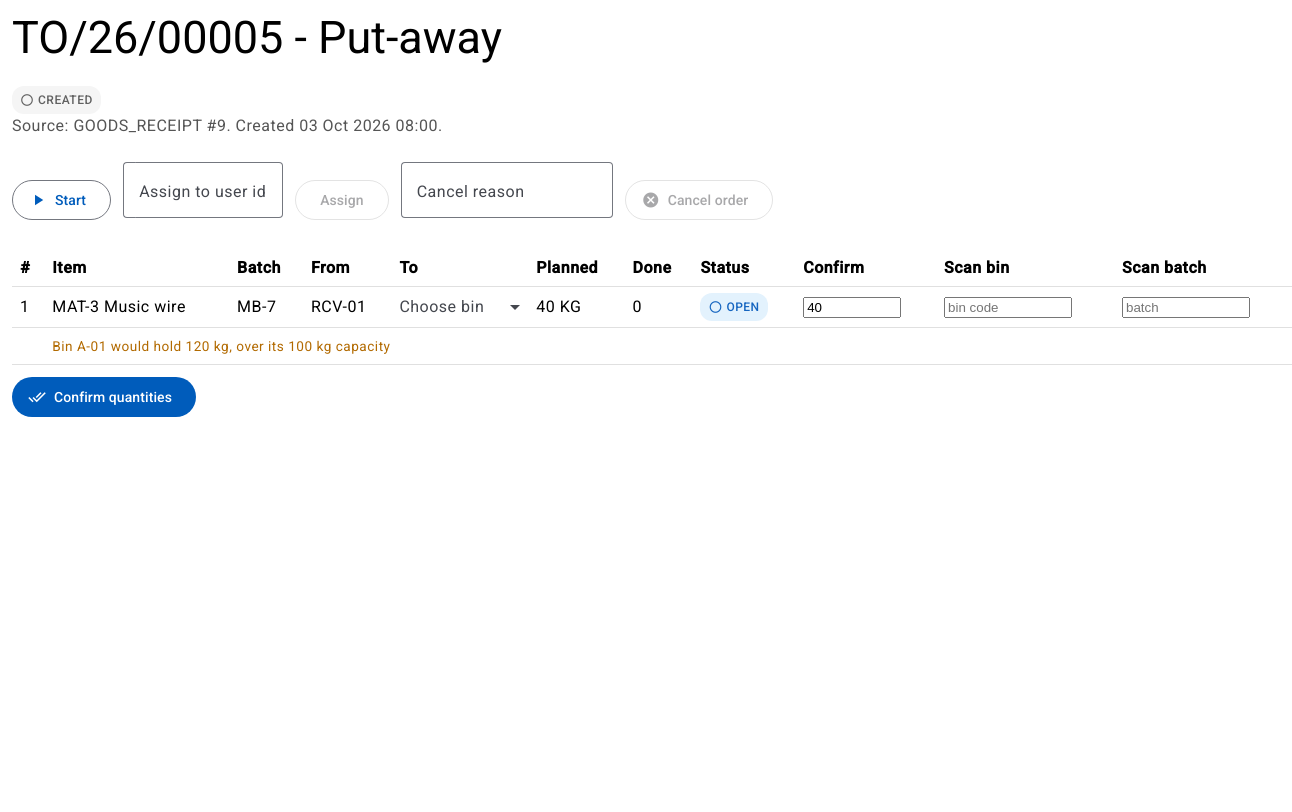
Test: WmsTaskDetailComponent › confirms the remaining quantity with the scanned codes
Type " A-01 " into the field with test id "scan-bin" at (1008, 308), box [944, 298, 1072, 318]
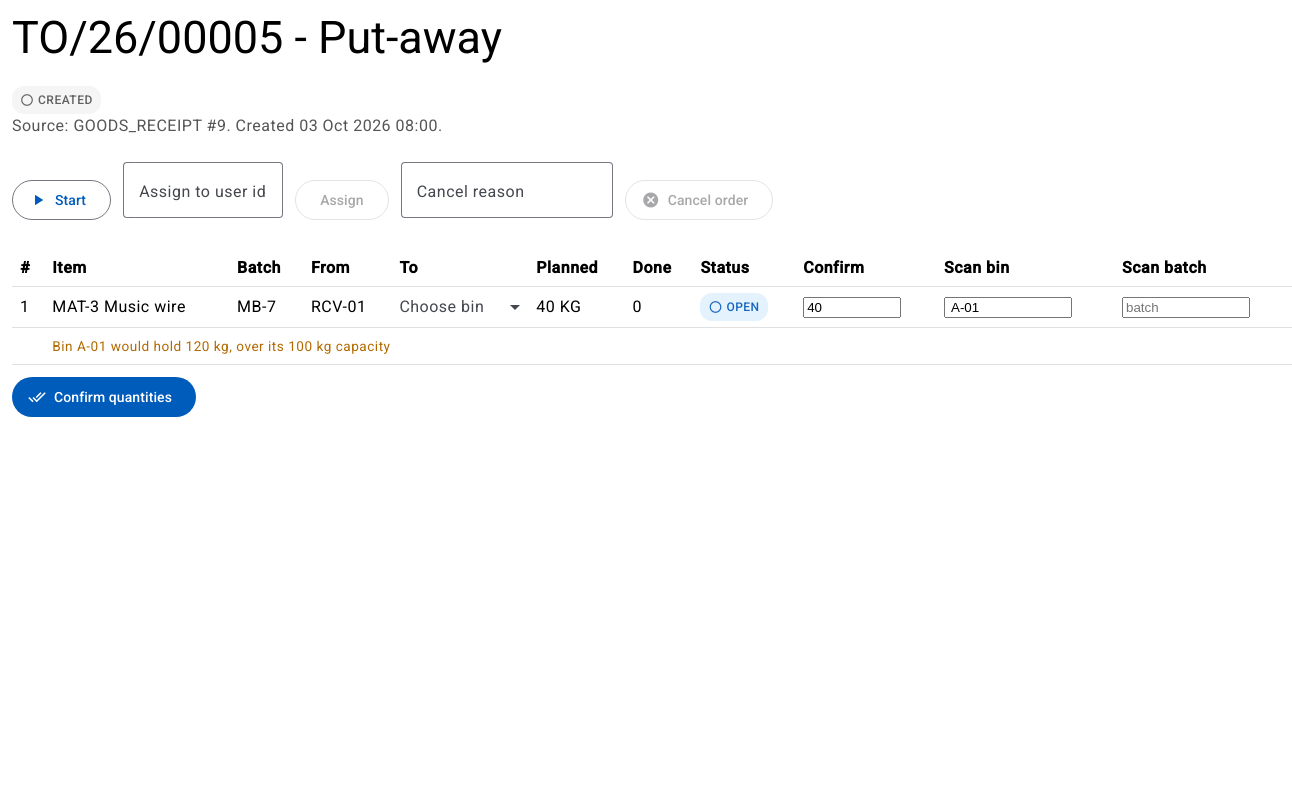
Type "MB-7" into the field with test id "scan-batch" at (1186, 308), box [1122, 298, 1250, 318]
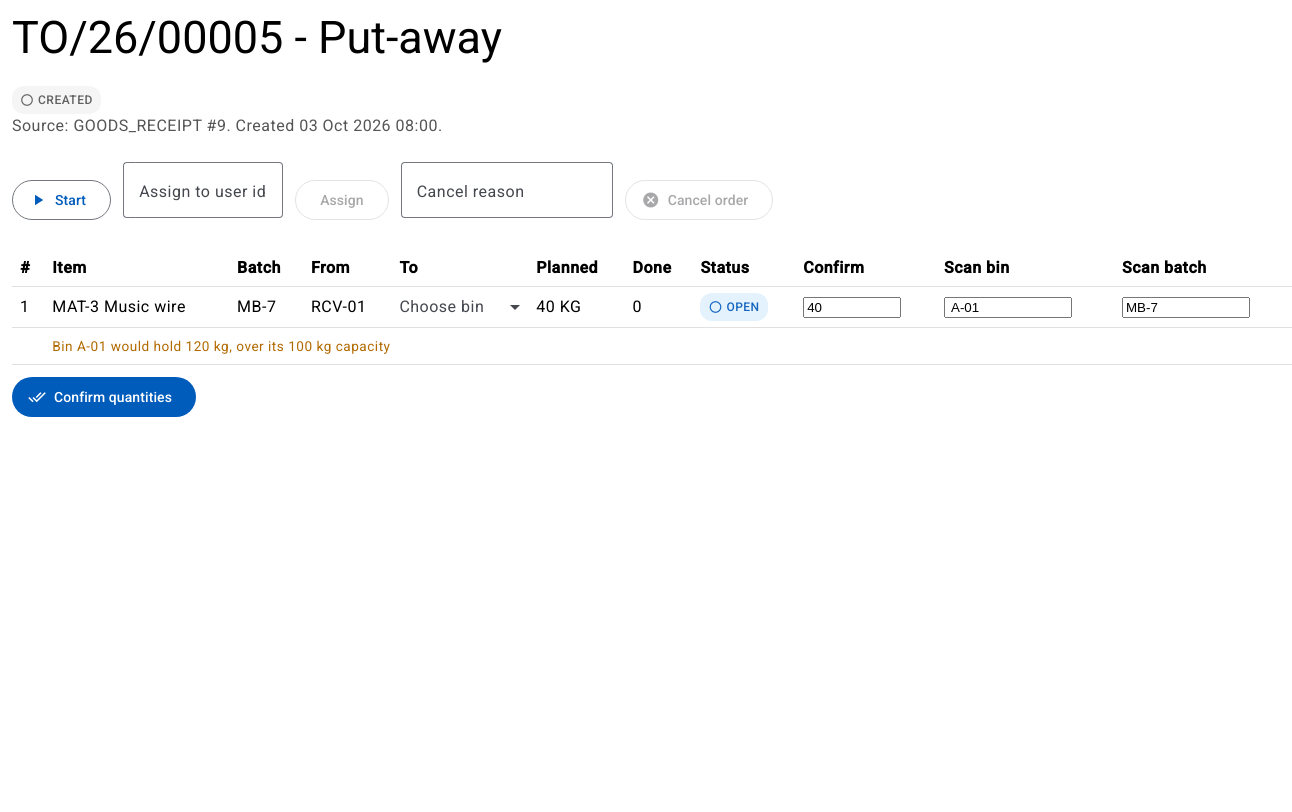
Click the button with test id "confirm" at (104, 398), box [12, 378, 196, 418]
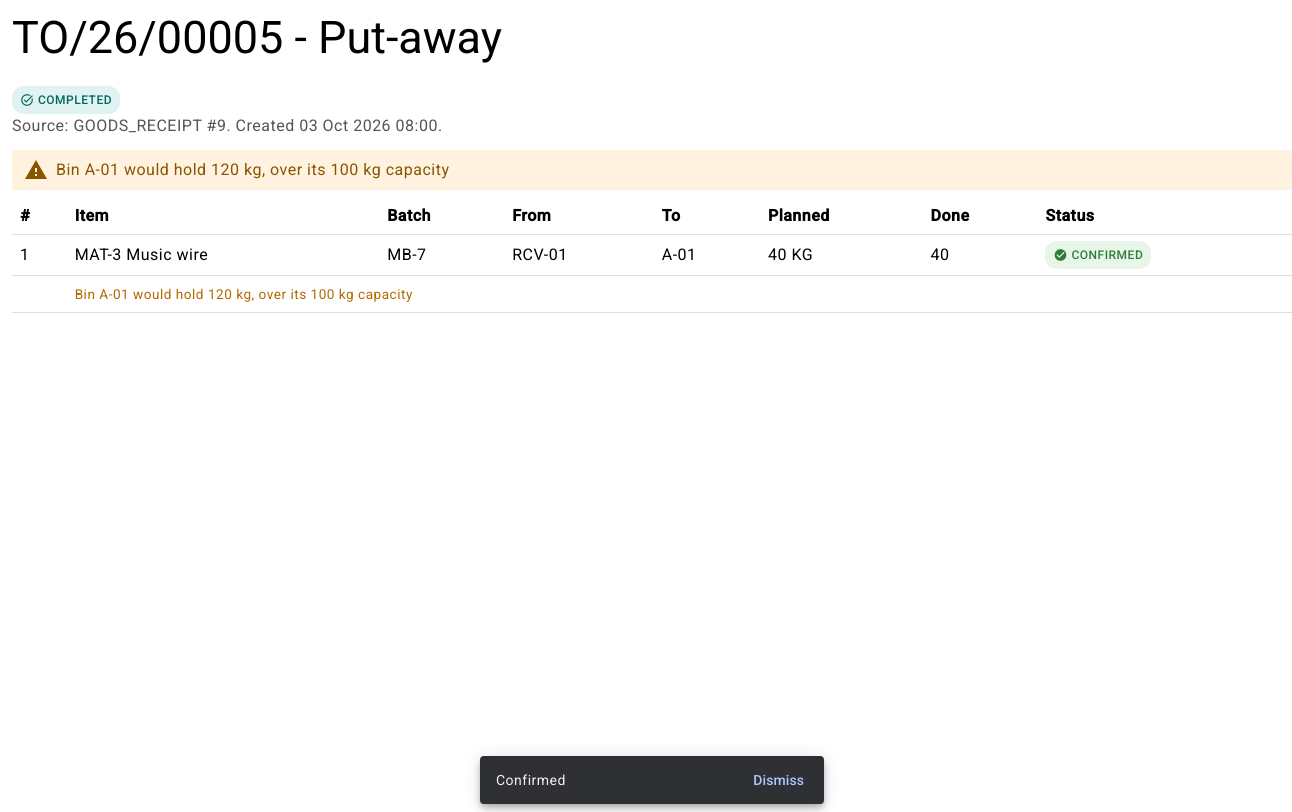
Check: the element with test id "warnings" shows "over its 100 kg capacity", box [56, 160, 450, 180]
Check: the button with test id "confirm" is gone
